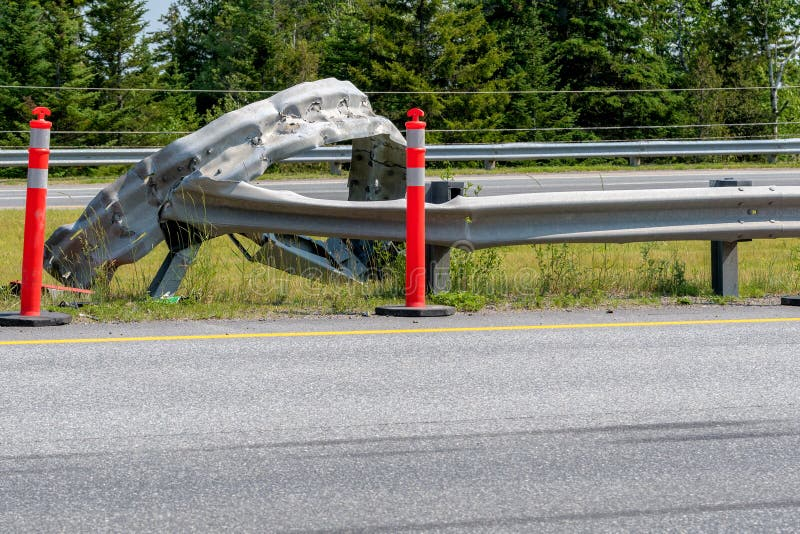damaged: (74, 71, 397, 321)
